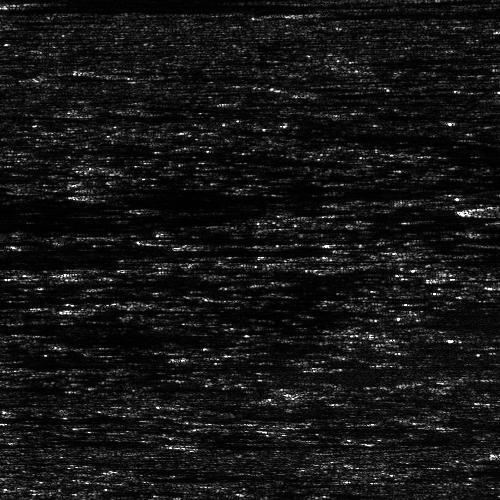object: (458, 86, 500, 105), (268, 10, 351, 17), (0, 3, 53, 10), (197, 98, 270, 103), (0, 244, 20, 257), (478, 205, 500, 214), (483, 28, 500, 33)
shadow: (17, 3, 312, 10), (0, 244, 136, 257), (310, 10, 500, 17), (234, 98, 428, 103), (0, 0, 313, 1)
